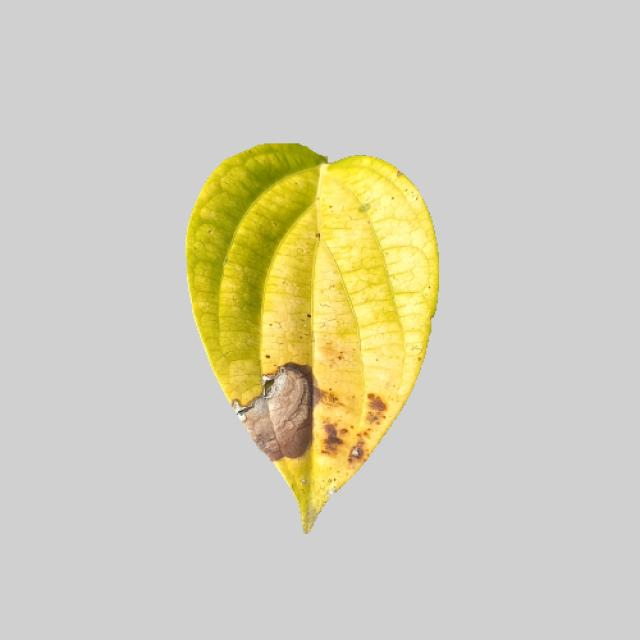leaf-blight: (175, 140, 443, 531)
